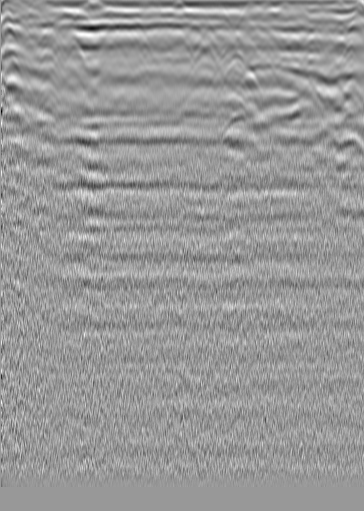가스: (215, 112, 255, 143)
상수: (333, 19, 353, 39)
오수: (35, 24, 55, 44)
우수: (167, 32, 187, 52)
